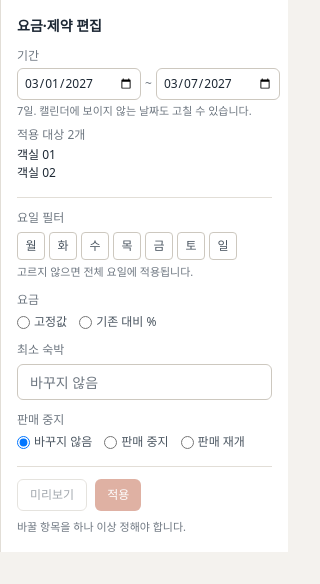
Test: 요금·제약 편집 패널 › 선택을 바꾸면 앞의 미리보기가 사라진다
This screenshot has width=320, height=584.
Type "2" into the number field with test id "min-stay-input" at x=144, y=382, box [17,364,272,400]
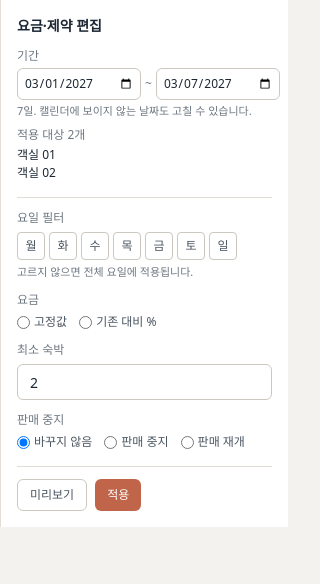
Click the button with test id "preview-button" at x=52, y=495, box [17,479,87,511]
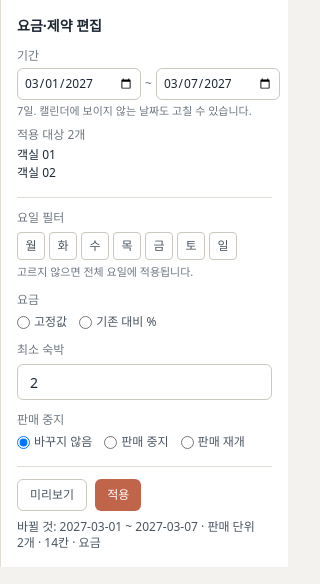
Expected: the message "바뀔 것: 2027-03-01 ~ 2027-03-07 · 판매 단위 2개 · 14칸 · 요금" is shown, [17,519,272,551]
